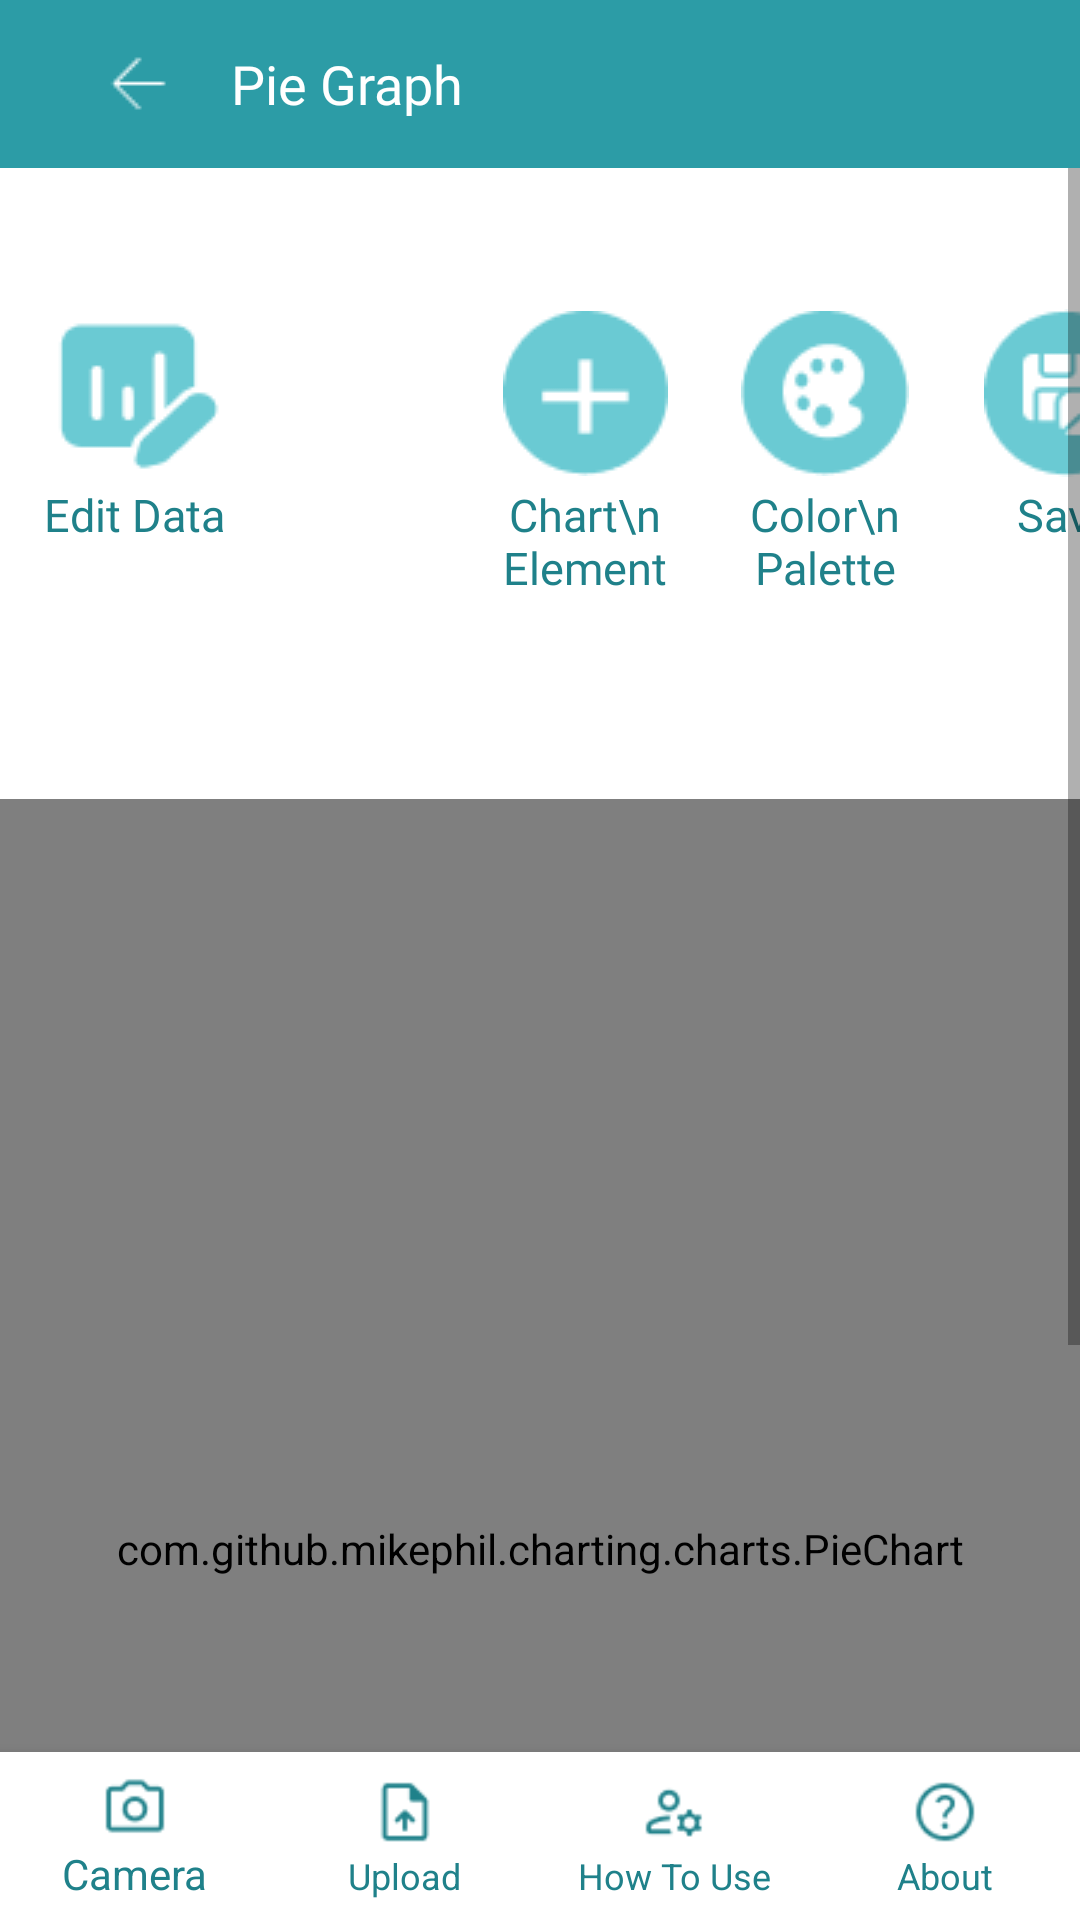

Screen size 1080x1920. Icon name, then its box in pixels as (x1, y1, x2, y2):
fback: (111, 57, 166, 110)
